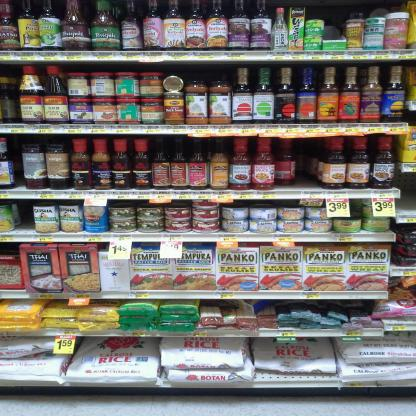empty_space: (296, 138, 324, 190), (322, 0, 346, 50), (397, 172, 416, 214), (13, 200, 34, 233)
